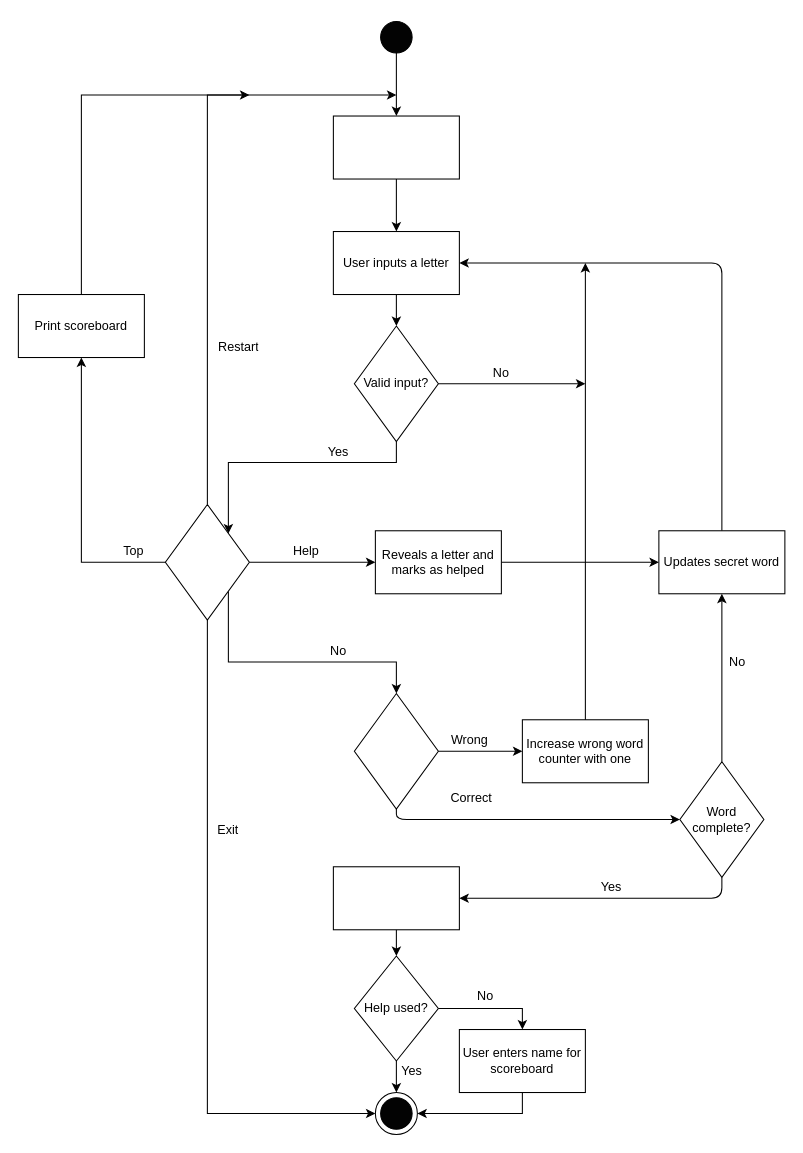
This 803x1153 diagram has some shape labels left out. The centre of each missing label's shape, as x and y in pixels:
"Built-in command?" goes at [206,561].
"Correct letter?" goes at [395,750].
"Shows start text and runs Hangman" goes at [395,147].
"Word complete" goes at [395,898].
